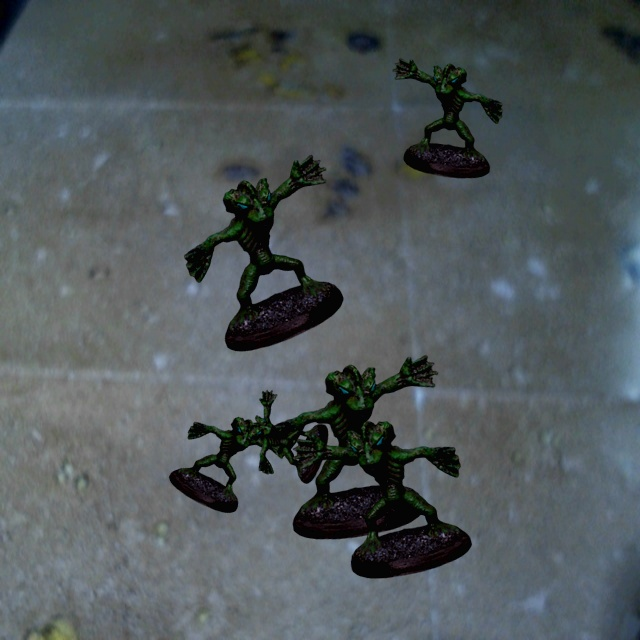pieza_juego: (184, 155, 343, 351), (271, 355, 437, 538), (293, 421, 471, 578), (392, 58, 502, 177), (169, 417, 289, 512), (249, 390, 328, 483)
